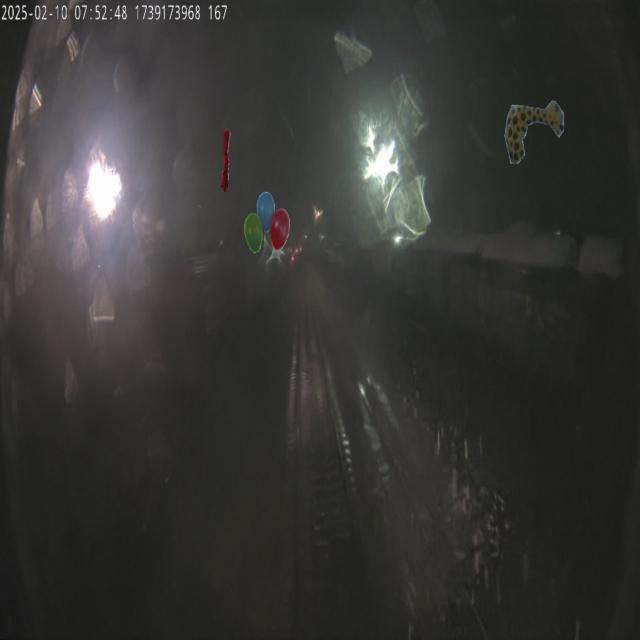balloon: (244, 190, 290, 254)
floating object: (504, 100, 564, 164), (221, 129, 231, 193)
